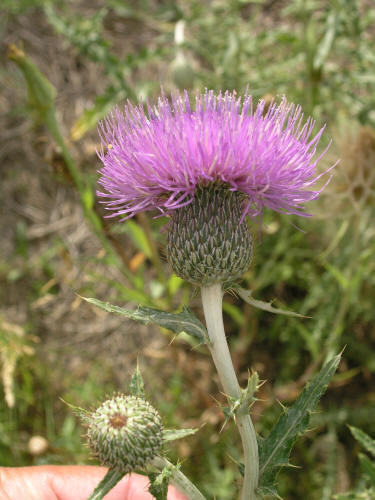thistle: (99, 94, 339, 300)
